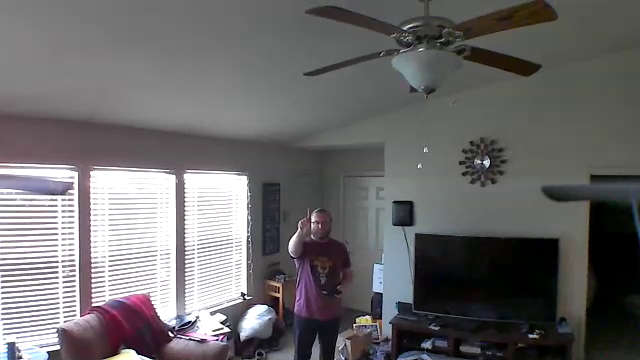up: (296, 206, 313, 233)
